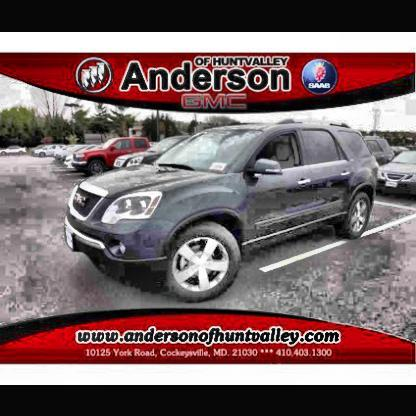GMC Acadia SUV 2012: (65, 122, 384, 305)
